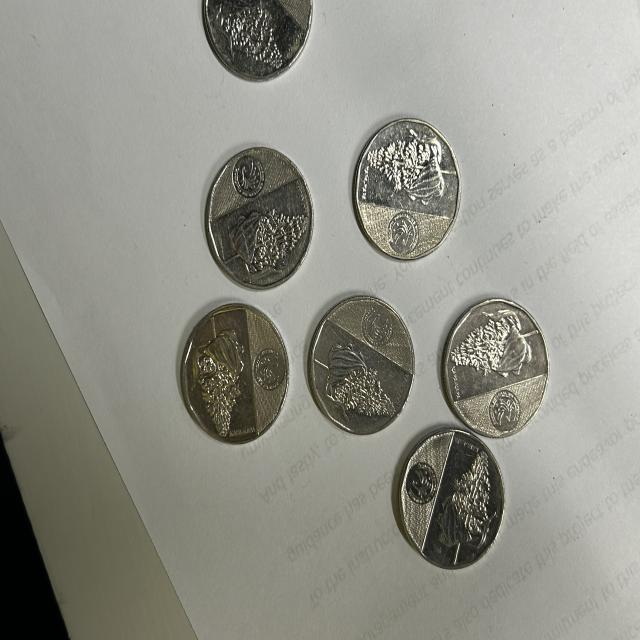10_New_Back: (369, 128, 456, 215), (316, 333, 392, 421), (442, 438, 491, 564), (453, 312, 540, 381), (194, 325, 243, 438), (230, 203, 296, 271)
